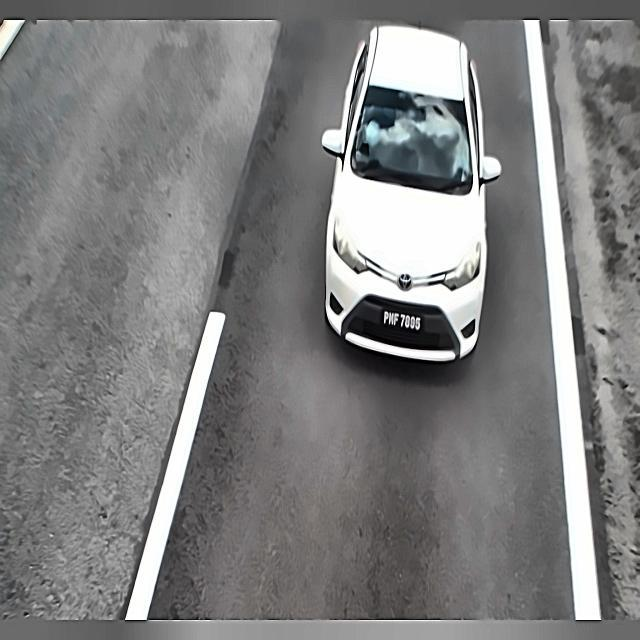car: (379, 302, 426, 339)
